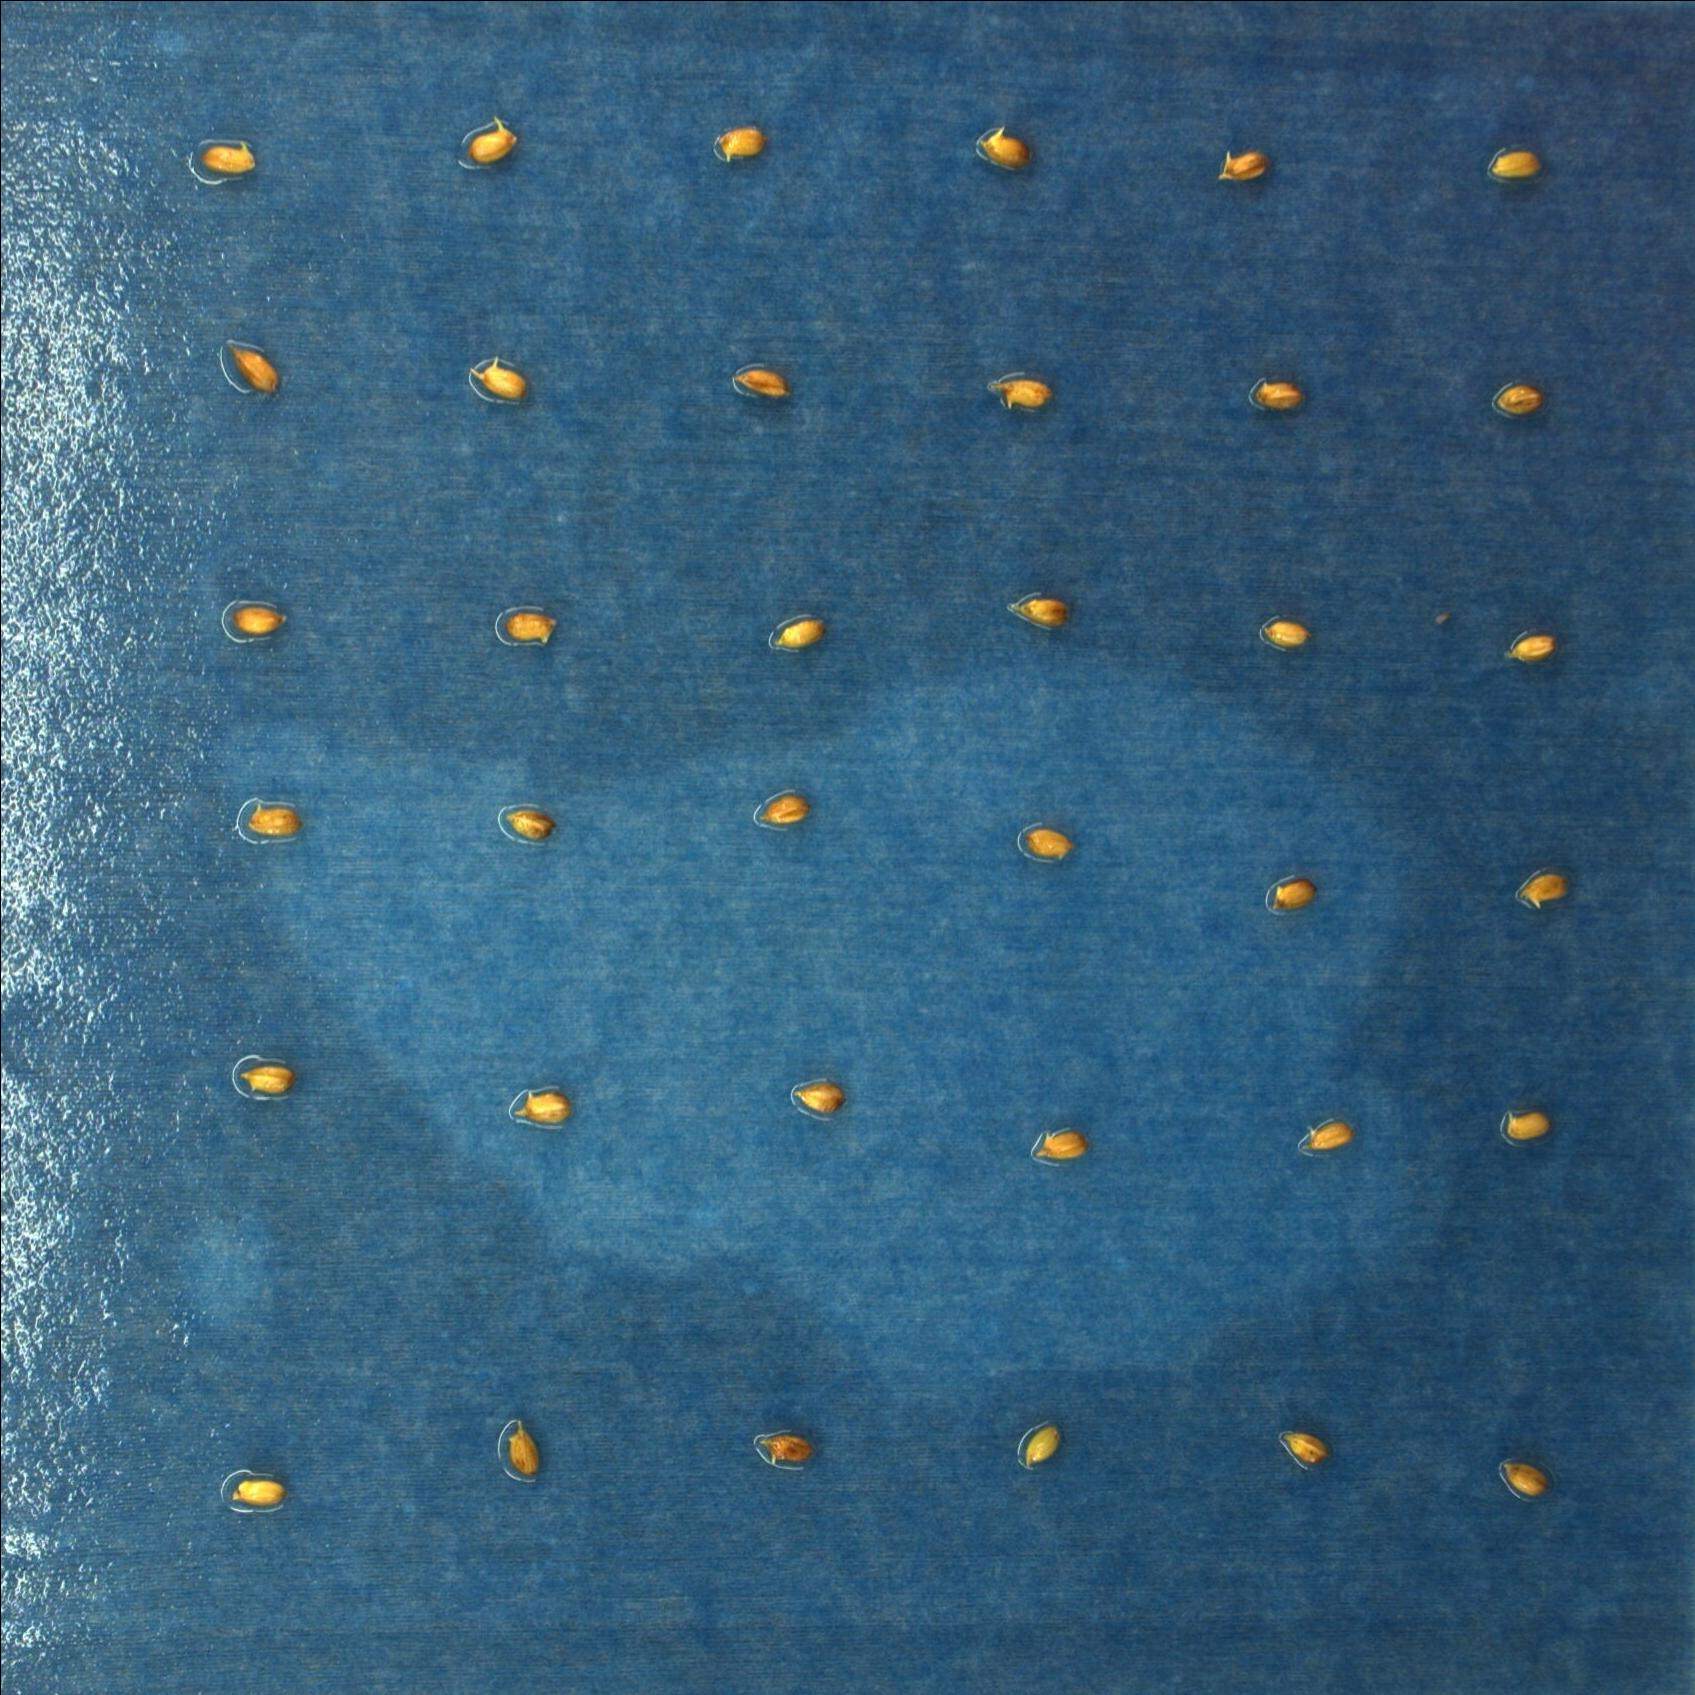not sprout: (228, 343, 279, 394), (472, 357, 528, 404), (466, 115, 518, 163), (1217, 147, 1274, 185), (979, 127, 1032, 168), (717, 126, 771, 165), (514, 1090, 574, 1124), (1009, 598, 1068, 632), (245, 802, 303, 837), (508, 1420, 542, 1478), (1035, 1128, 1091, 1163), (200, 141, 255, 175), (1518, 872, 1568, 910), (1503, 1462, 1549, 1501), (1495, 383, 1548, 418), (239, 1065, 296, 1096), (992, 379, 1055, 407), (1021, 829, 1076, 861), (795, 1082, 846, 1116), (1489, 149, 1544, 180), (504, 809, 557, 841), (1268, 880, 1318, 914), (1254, 380, 1305, 413), (506, 612, 557, 644), (733, 368, 789, 397), (757, 1434, 813, 1464), (1024, 1423, 1063, 1465), (1304, 1121, 1355, 1152), (231, 607, 287, 635), (775, 619, 824, 650), (231, 1478, 286, 1506), (1507, 633, 1558, 663), (761, 796, 812, 826), (1506, 1111, 1554, 1142), (1284, 1433, 1329, 1465), (1263, 621, 1312, 650)
